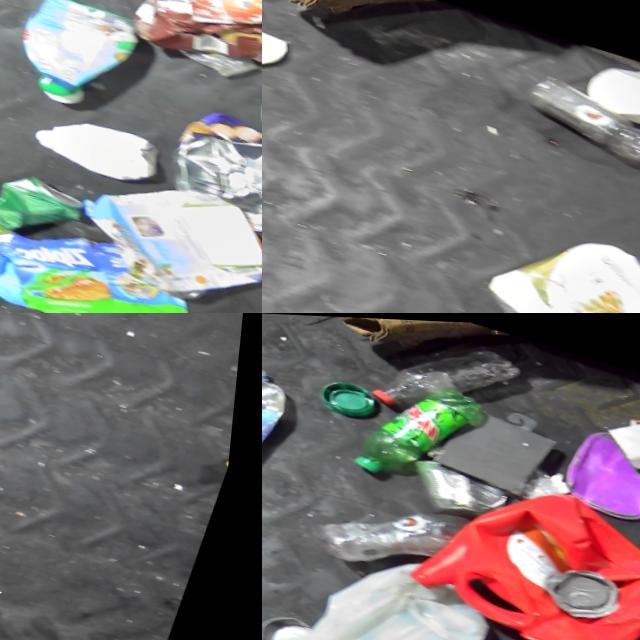can: (0, 148, 104, 259), (400, 449, 520, 527), (262, 604, 333, 640)
milk_jug: (293, 531, 515, 640)
non_white_jug: (392, 450, 640, 640), (11, 0, 158, 115)
plastic_bottle: (307, 472, 479, 591), (364, 316, 526, 433), (505, 61, 640, 175), (262, 346, 304, 486)
